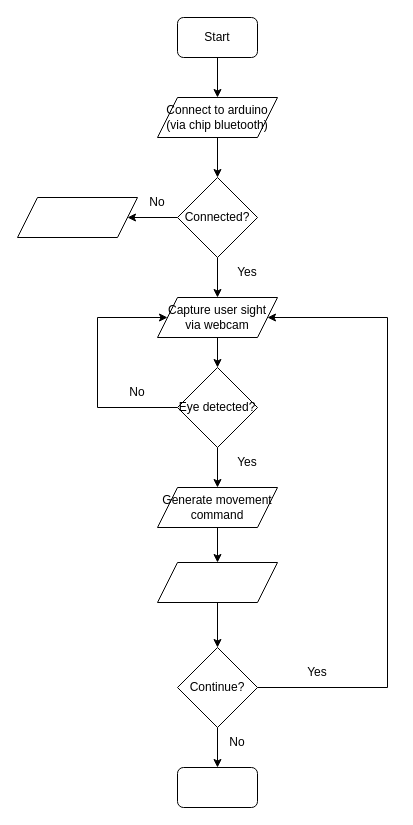
Image size: 413x825. Some labels were removed from this diagram. Each missing label, with the centre of its shape:
"End" goes at point 217,787.
"Send command to port" goes at point 217,582.
"Throw error" goes at point 77,217.
